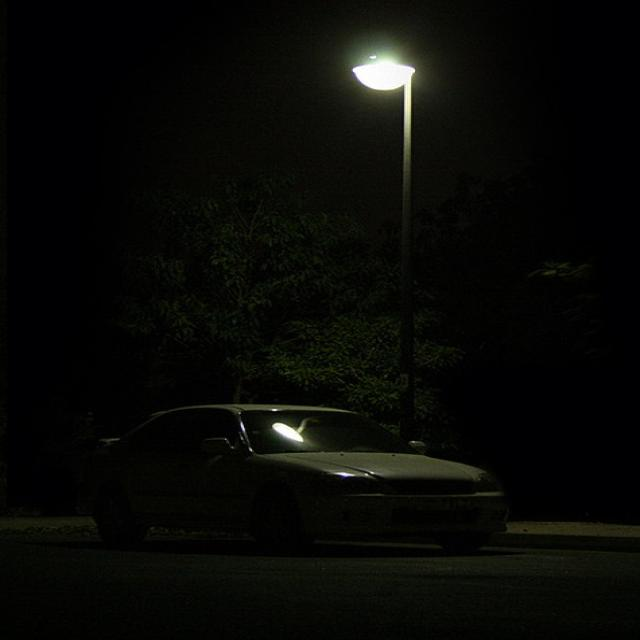Car: (107, 404, 515, 558)
